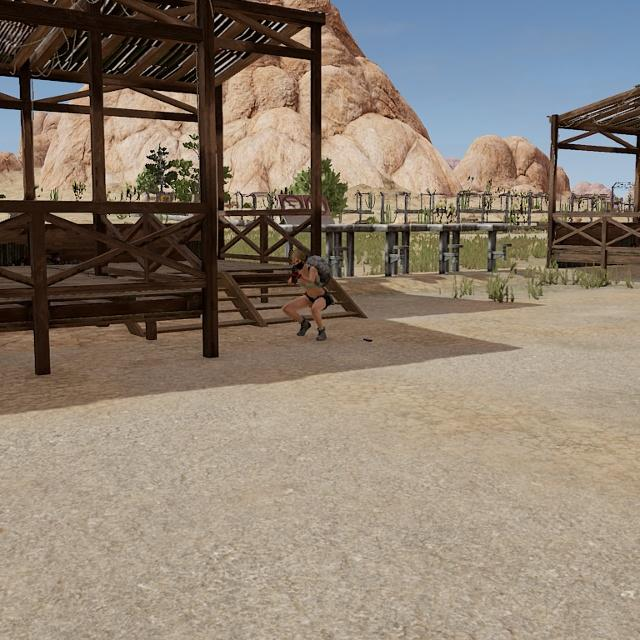head: (287, 243, 308, 274)
people: (280, 239, 341, 346)
